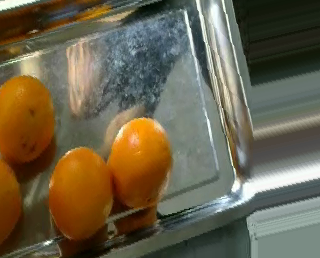Orange: (48, 146, 113, 240), (107, 117, 173, 207), (1, 74, 55, 162)
